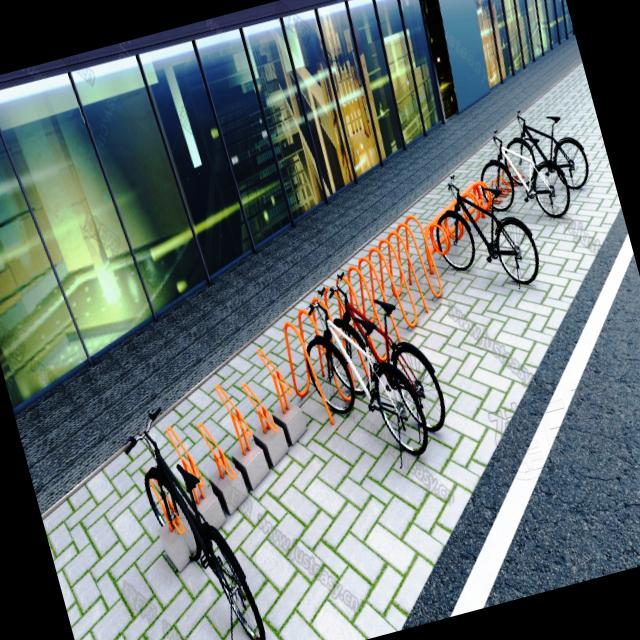bike: (115, 395, 271, 640), (287, 270, 437, 484), (309, 255, 452, 452), (421, 157, 545, 306), (468, 114, 578, 237), (492, 94, 594, 206)
